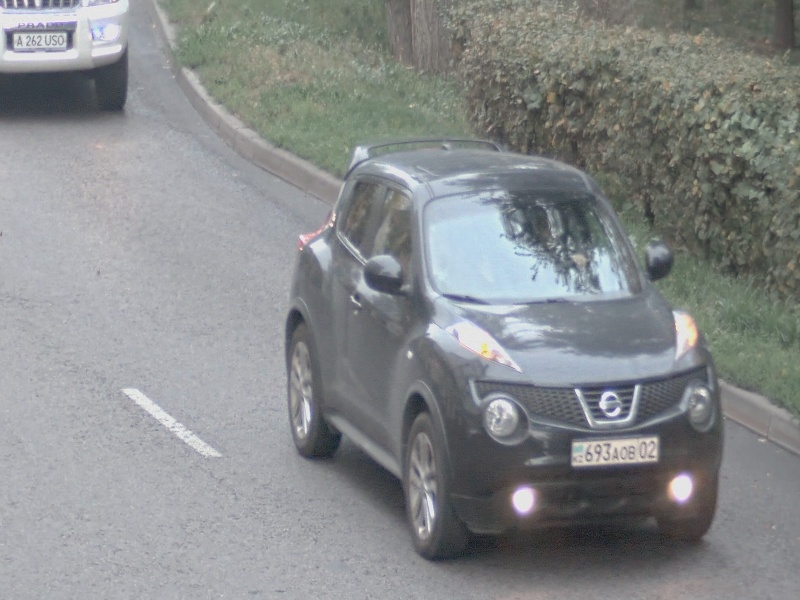plate: (569, 434, 660, 469)
